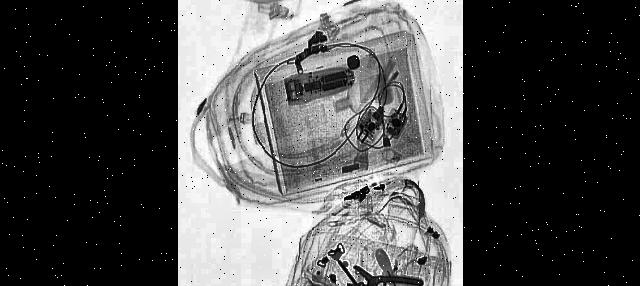Pliers: (346, 244, 424, 286)
